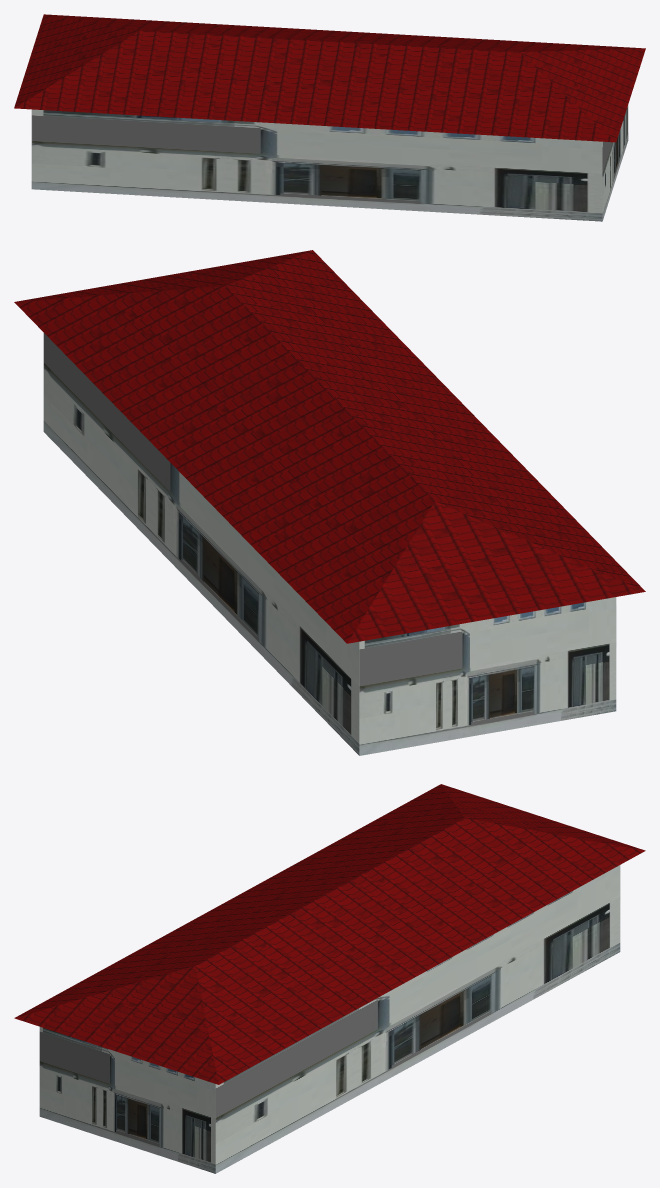
The picture shows the model from 3 angles, top to bottom: view 1: azimuth 30°, elevation 25°; view 2: azimuth 150°, elevation 25°; view 3: azimuth 270°, elevation 25°; orthographic projection. The views are drawn at different scales.
Visible parts, largest first — view 1: CityEngineMaterial_17_m, CityEngineMaterial_11_m; view 2: CityEngineMaterial_17_m, CityEngineMaterial_11_m; view 3: CityEngineMaterial_17_m, CityEngineMaterial_11_m.
Boxes of the visible parts, left/top/right/bottom form: CityEngineMaterial_17_m: left=14, top=14, right=645, bottom=142; CityEngineMaterial_11_m: left=31, top=105, right=628, bottom=221; CityEngineMaterial_17_m: left=14, top=250, right=645, bottom=643; CityEngineMaterial_11_m: left=43, top=333, right=616, bottom=755; CityEngineMaterial_17_m: left=14, top=784, right=645, bottom=1084; CityEngineMaterial_11_m: left=39, top=865, right=620, bottom=1173.
Bounding box in the file's own units: 36.69 × 8.1 × 32.56.
